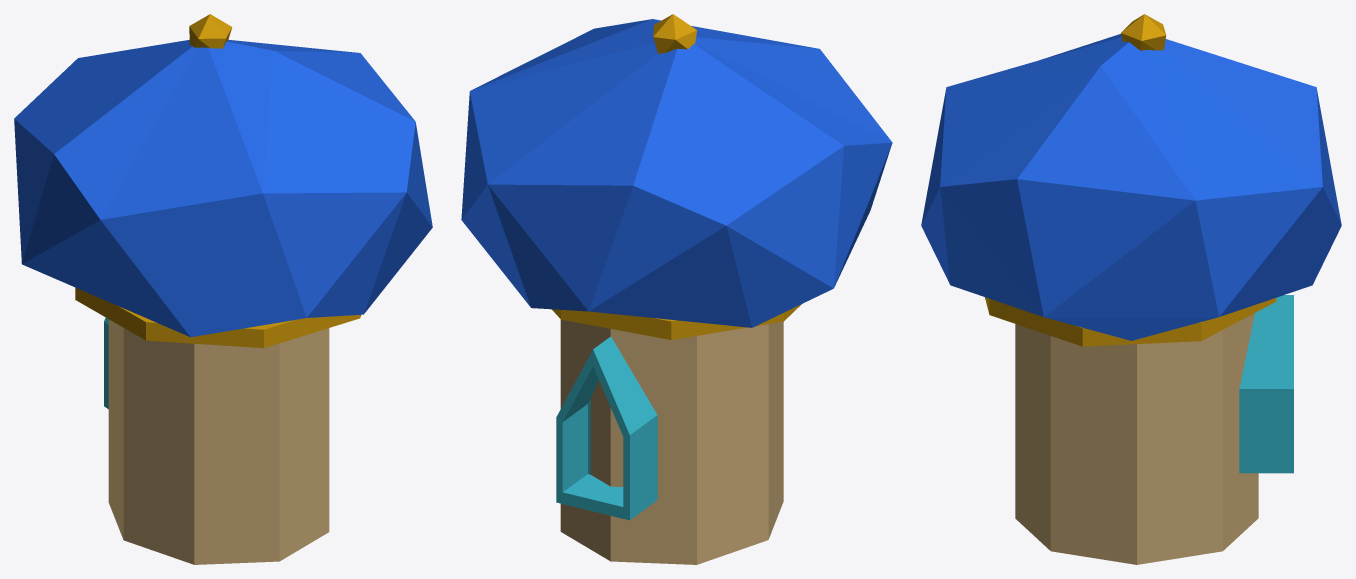
Rendered from Castle1.fbx.
3 views of the same model, side by side, from view 1: azimuth 30°, elevation 25°; view 2: azimuth 150°, elevation 25°; view 3: azimuth 270°, elevation 25° (orthographic).
Visible parts, largest first — view 1: Top, Pillar, Connection, LilTop; view 2: Top, Pillar, Balcony, Connection, LilTop; view 3: Top, Pillar, Balcony, Connection, LilTop.
Part boxes in pixels (x1,y1,x2,y2): Top: (14,39,432,337); Pillar: (108,319,329,564); Connection: (75,287,361,348); LilTop: (189,14,232,48); Top: (461,19,892,327); Pillar: (560,319,783,564); Balcony: (556,336,657,520); Connection: (552,304,801,339); LilTop: (653,14,697,53); Top: (921,34,1341,340); Pillar: (1015,313,1258,564); Balcony: (1239,295,1293,473); Connection: (985,297,1276,346); LilTop: (1121,14,1166,50).
Bounding box in the file's own units: 367 × 502 × 382.
